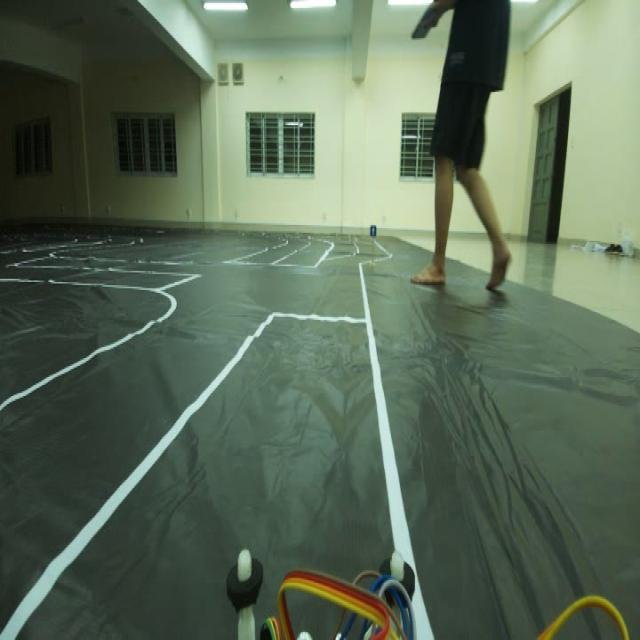onewayroad: (369, 220, 379, 242)
